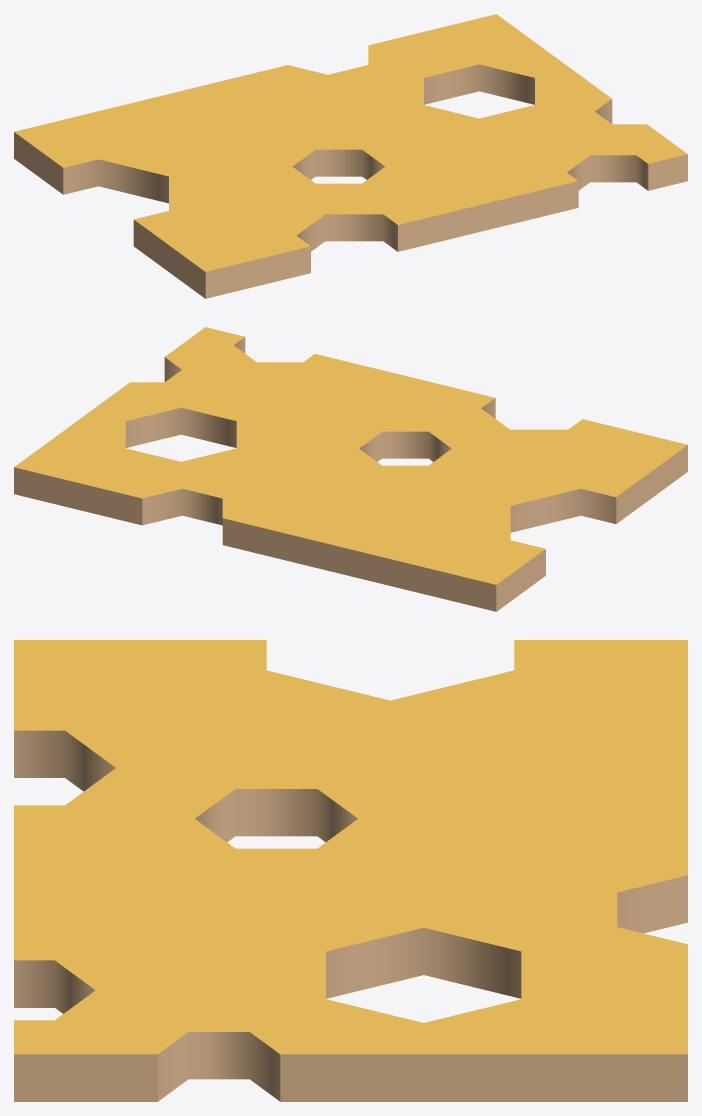
File: cheeseCut.obj
3 views of the same model, one above another, from view 1: azimuth 30°, elevation 25°; view 2: azimuth 150°, elevation 25°; view 3: azimuth 270°, elevation 25° (orthographic). The views are drawn at different scales.
Visible parts, largest first — view 1: cheeseCut; view 2: cheeseCut; view 3: cheeseCut.
Part boxes in pixels (x1,y1,x2,y2): cheeseCut: [14, 14, 687, 298]; cheeseCut: [14, 327, 687, 611]; cheeseCut: [14, 640, 687, 1101].
Size of the model in its own units: 0.384 by 0.0205 by 0.264.
